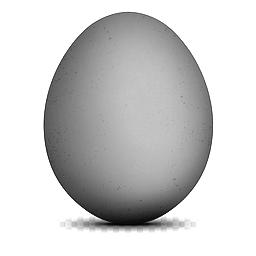telur: (40, 8, 218, 226)
